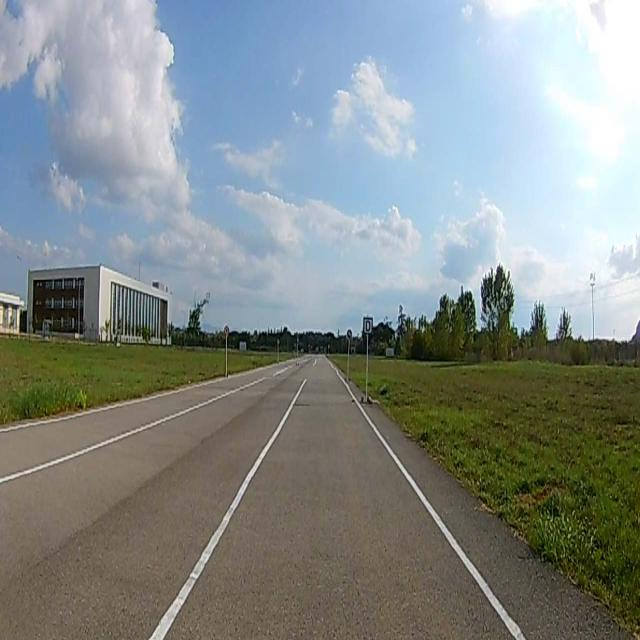durak: (364, 317, 372, 333)
